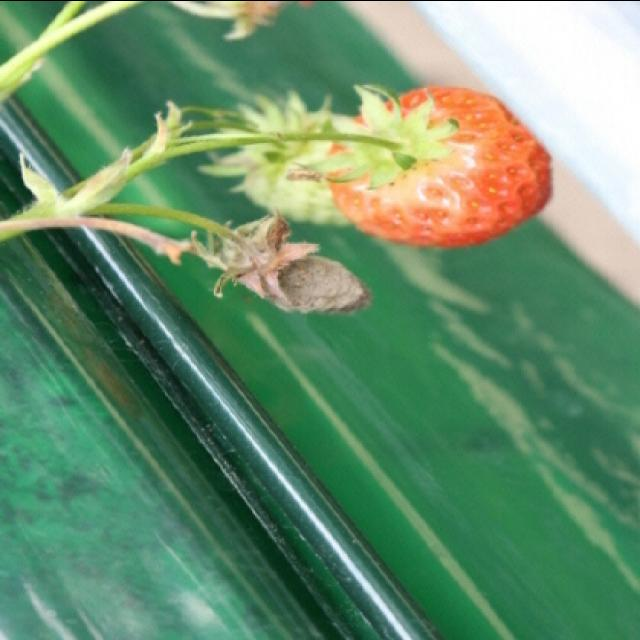Gray Mold: (189, 210, 373, 316)
